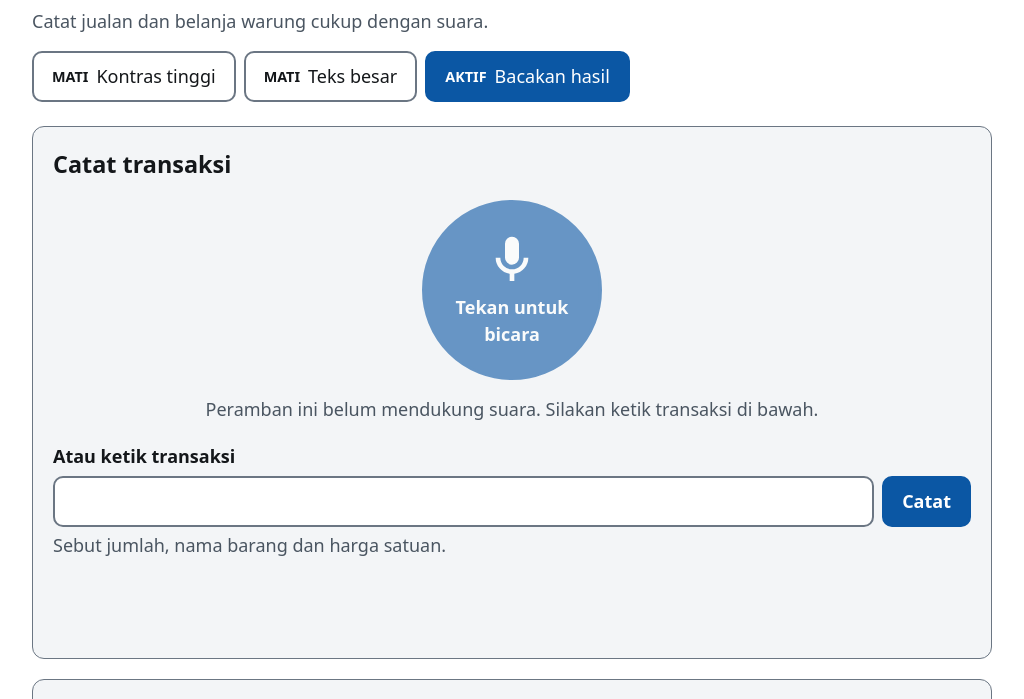
Test: recording by text and keyboard › can undo the last entry
In the field labelled "Atau ketik transaksi": (464, 502) [53,476,874,527], type "jual tiga kopi lima ribu"
Then press Enter
(page scrolled)
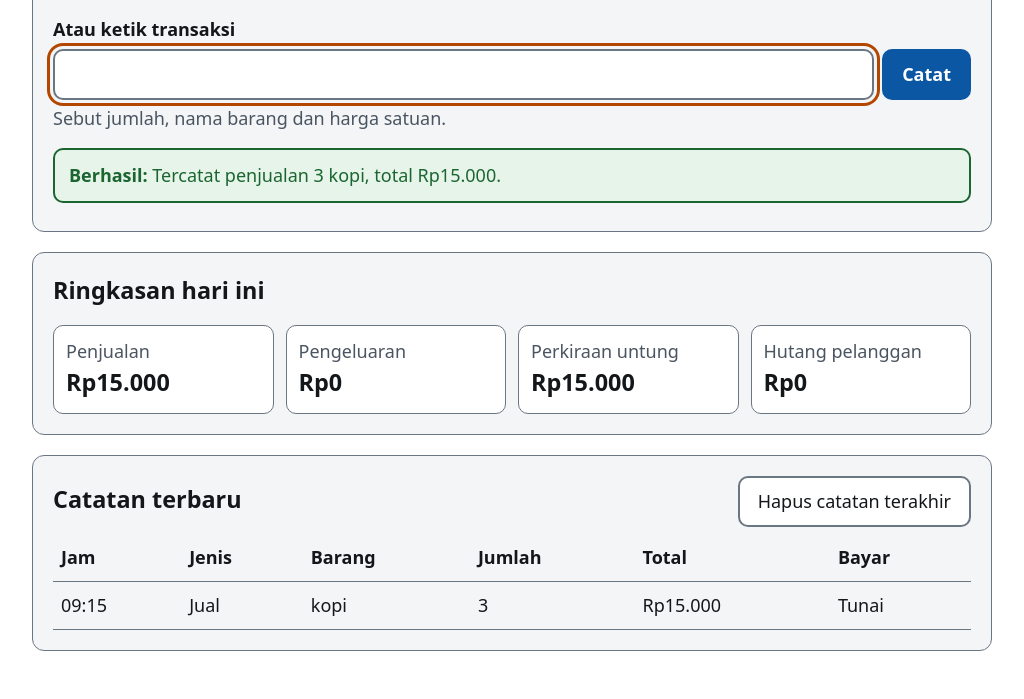
Now the table is shown, box [53,534,971,630]
Click the button "Hapus catatan terakhir": (854, 501) [738,476,971,526]
(page scrolled)
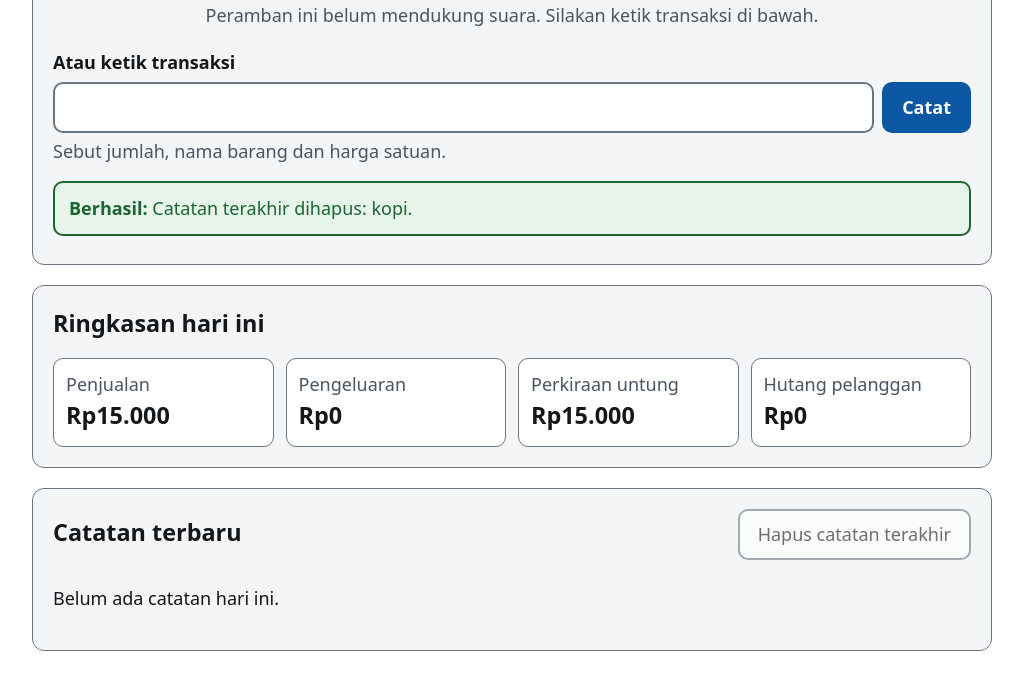
Now the message with test id "live-region" shows "Catatan terakhir dihapus: kopi.", box [152,196,412,220]
